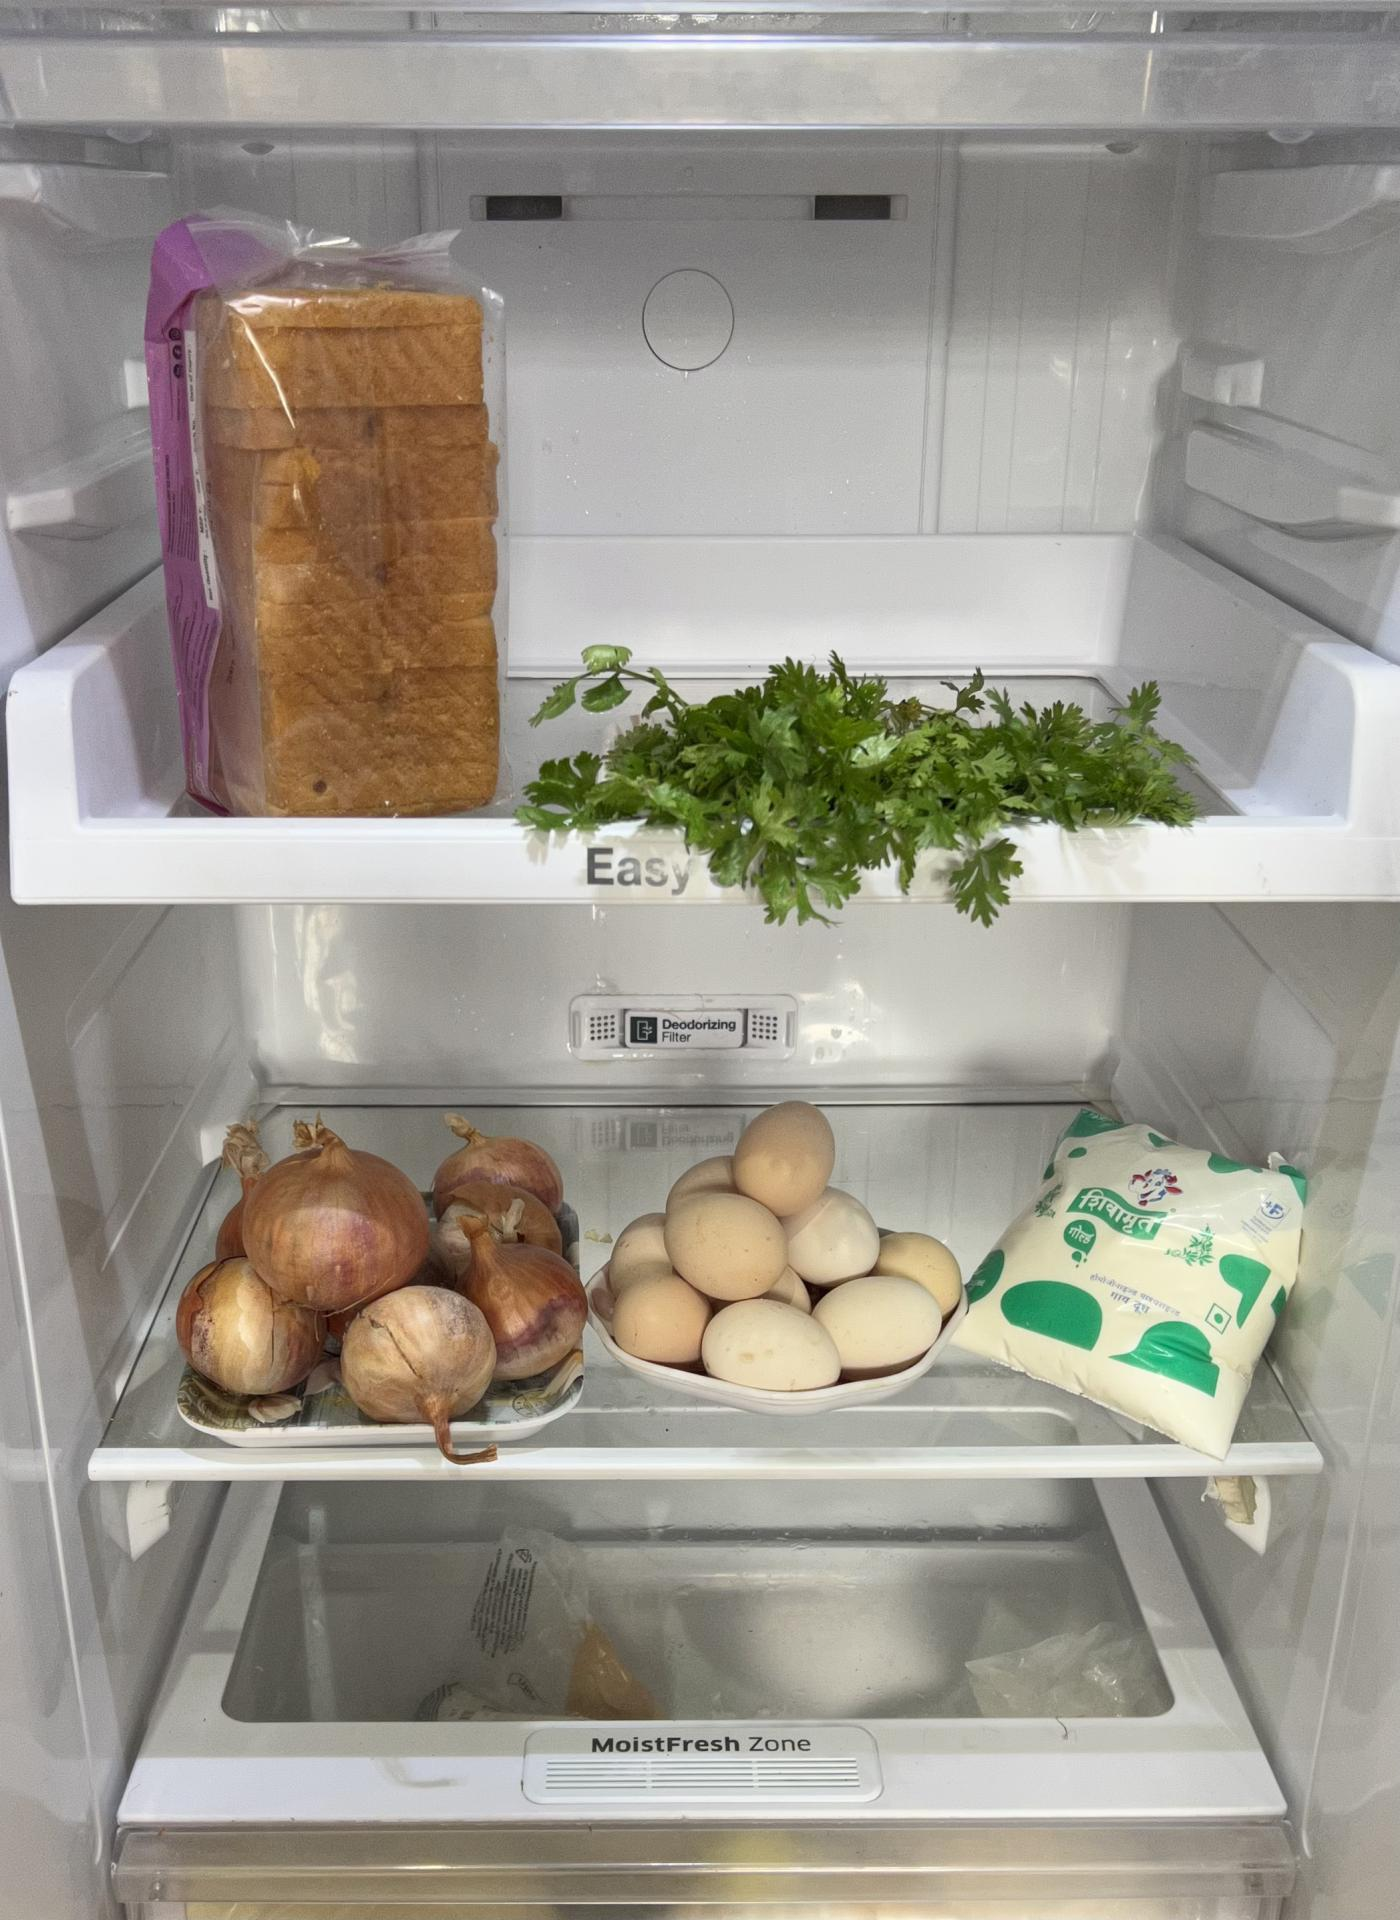bread: (128, 204, 507, 817)
coriander: (525, 644, 1214, 860)
egg: (595, 1108, 960, 1386)
milk: (972, 1100, 1303, 1434)
onion: (177, 1100, 570, 1424)
